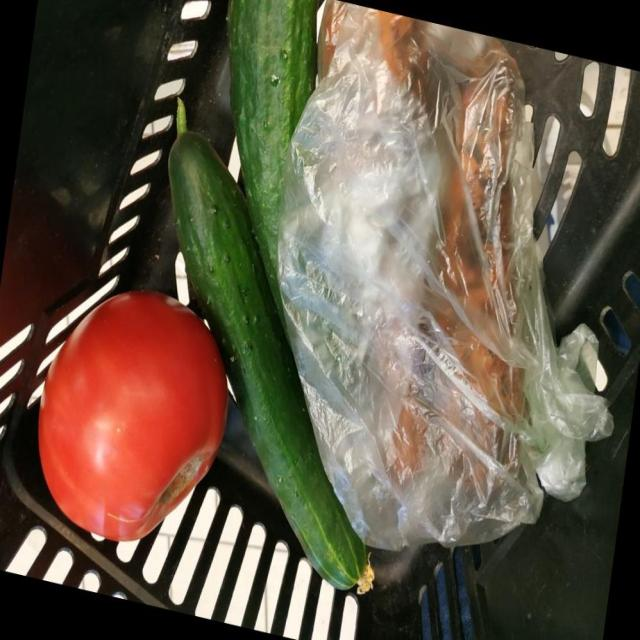carrot: (240, 172, 640, 449), (190, 35, 596, 118)
cucumber: (117, 24, 346, 124), (96, 78, 279, 182)
tomato: (100, 242, 302, 640)
